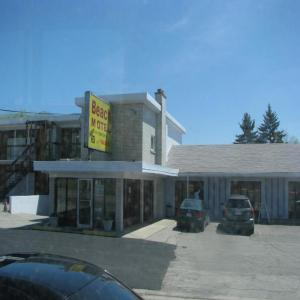Vehicle-registration-plate: (188, 215, 193, 217)
